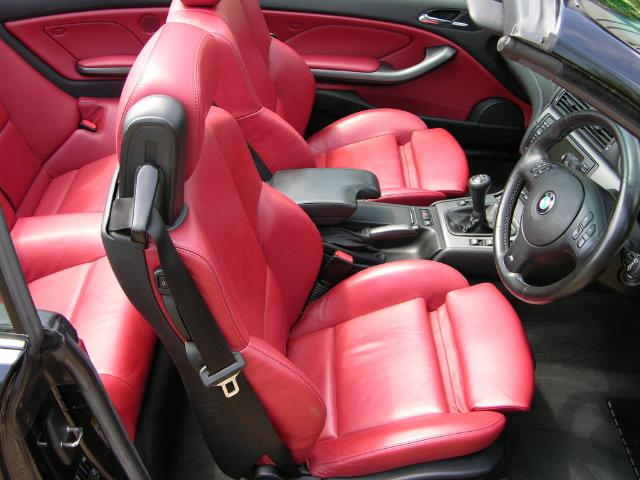Seatbelt: (106, 195, 300, 479)
